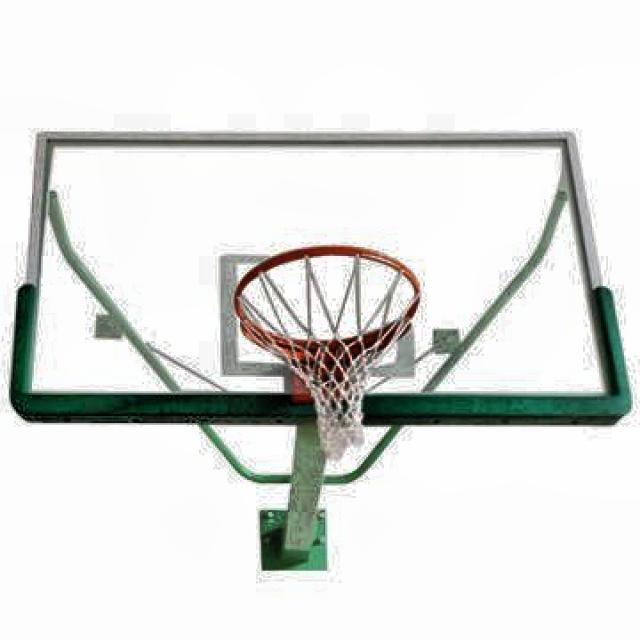rim: (235, 244, 420, 452)
